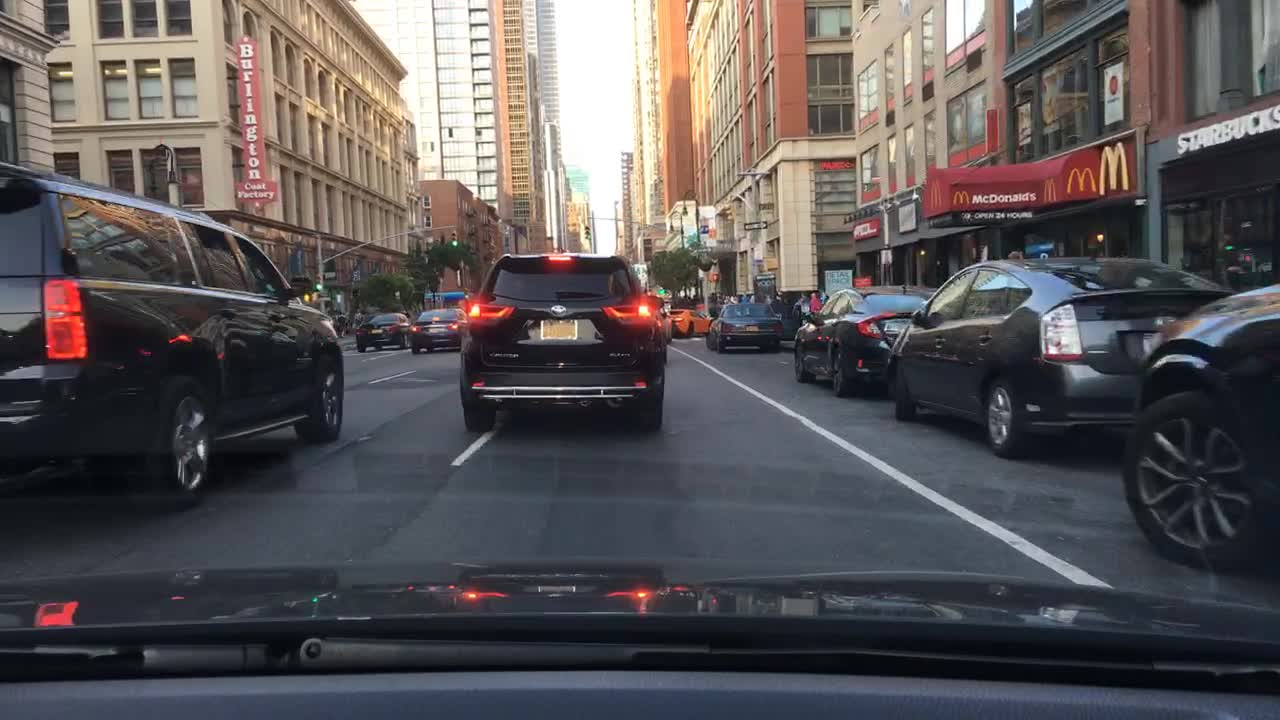car: (0, 154, 342, 511), (887, 249, 1235, 459), (1117, 281, 1279, 574), (457, 246, 669, 433), (794, 282, 937, 396), (704, 300, 783, 354), (404, 306, 467, 354), (355, 312, 410, 353), (664, 309, 713, 339)
person: (793, 290, 808, 316), (808, 289, 821, 316), (336, 311, 344, 335), (343, 309, 351, 333), (353, 309, 362, 328), (707, 291, 717, 303), (330, 309, 335, 331)
traffic light: (725, 203, 735, 223), (764, 257, 777, 269), (314, 275, 322, 289), (710, 272, 721, 282), (707, 226, 716, 238), (583, 225, 590, 239), (658, 286, 667, 296), (452, 230, 457, 246)
traffic sign: (744, 222, 767, 228), (323, 270, 336, 279), (755, 275, 774, 279)
